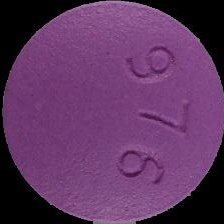69189-0280: (0, 0, 224, 224)
